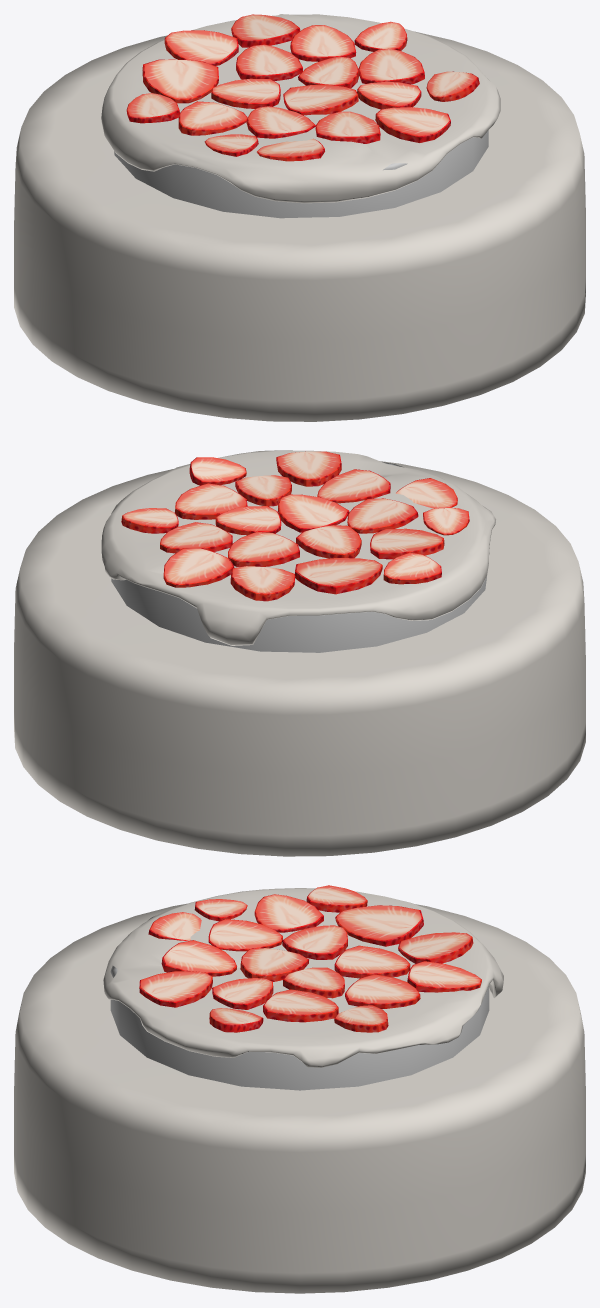
3 views of the same model, one above another, from view 1: azimuth 30°, elevation 25°; view 2: azimuth 150°, elevation 25°; view 3: azimuth 270°, elevation 25° (orthographic).
Parts seen in each view (by area): view 1: floor_2; view 2: floor_2; view 3: floor_2.
Boxes of the visible parts, box(x1,y1,x2,y2) form: floor_2: box(14, 14, 585, 421); floor_2: box(14, 450, 585, 856); floor_2: box(14, 885, 585, 1293).
Size of the model in its own units: 31.06 by 13.03 by 31.06.
